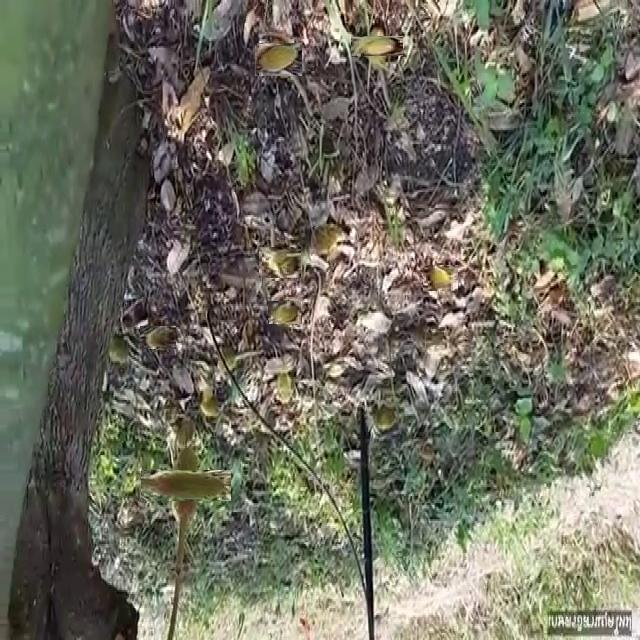durian: (156, 456, 217, 516), (258, 39, 299, 79), (262, 244, 299, 282), (359, 28, 396, 65), (312, 227, 339, 263), (424, 263, 456, 293), (143, 323, 173, 353), (270, 298, 300, 328), (213, 342, 237, 378)
